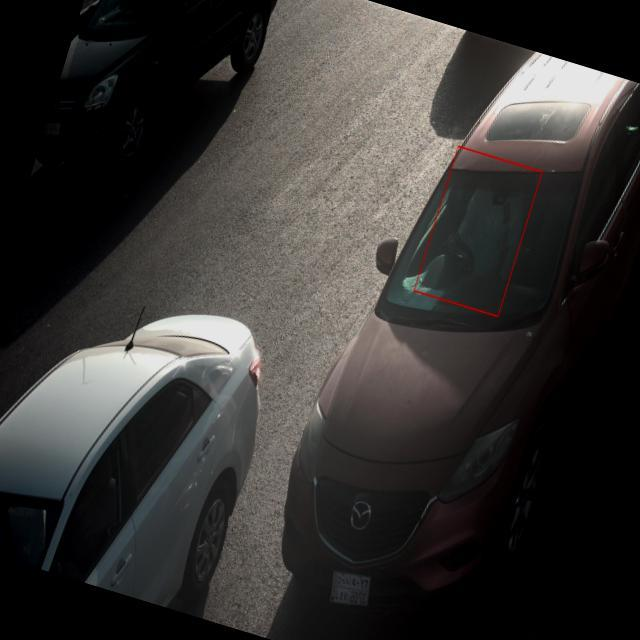windshield: (376, 159, 589, 335)
